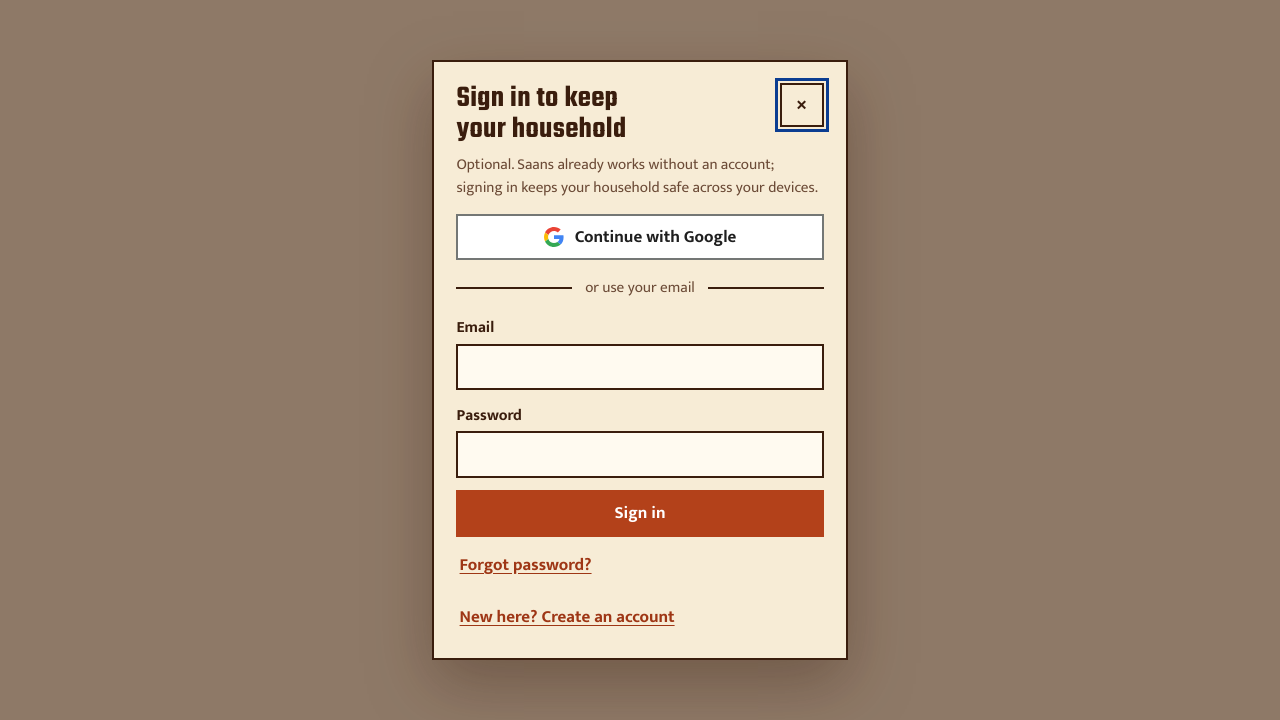
Test case: AuthDialog › sends a password reset without revealing whether the account exists
The width and height of the screenshot is (1280, 720).
Click the button "Forgot password?" at (526, 565), box [456,543,595,587]
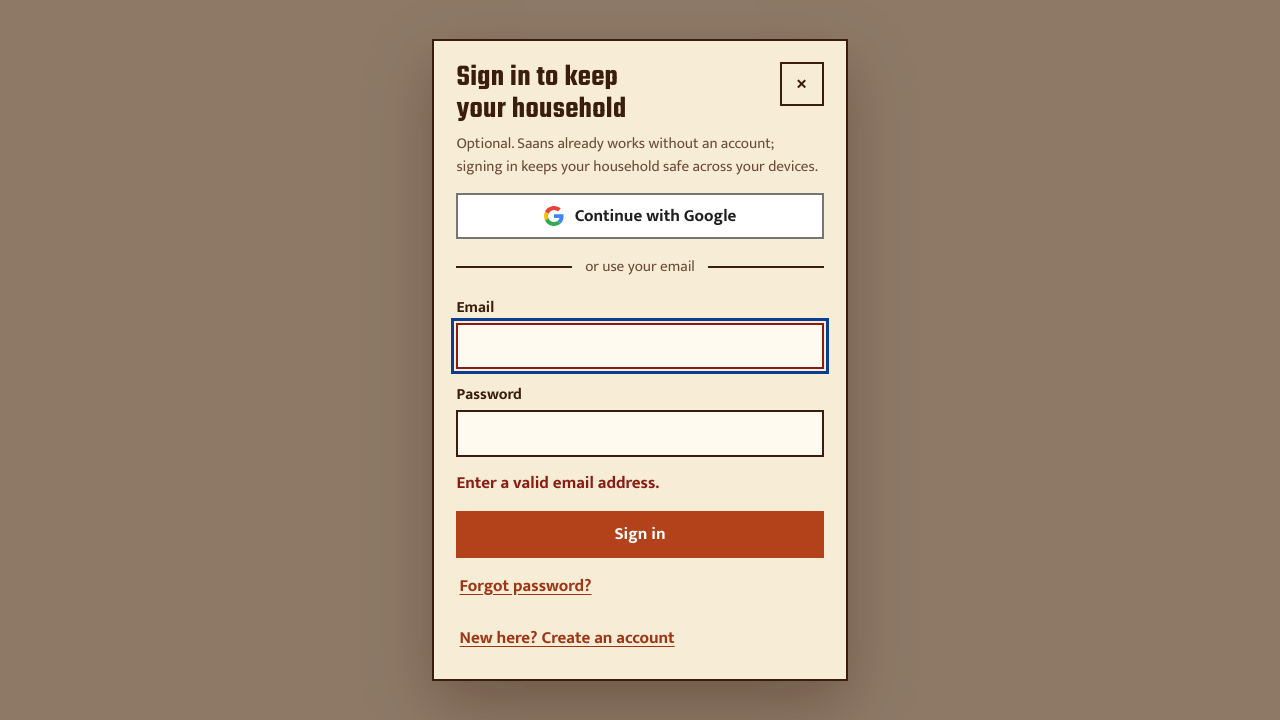
Result: the message reads "Enter a valid email address." at [456,468,659,496]
Type "asha@example.com" into the field labelled "Email" at (640, 346), box [456,323,824,369]
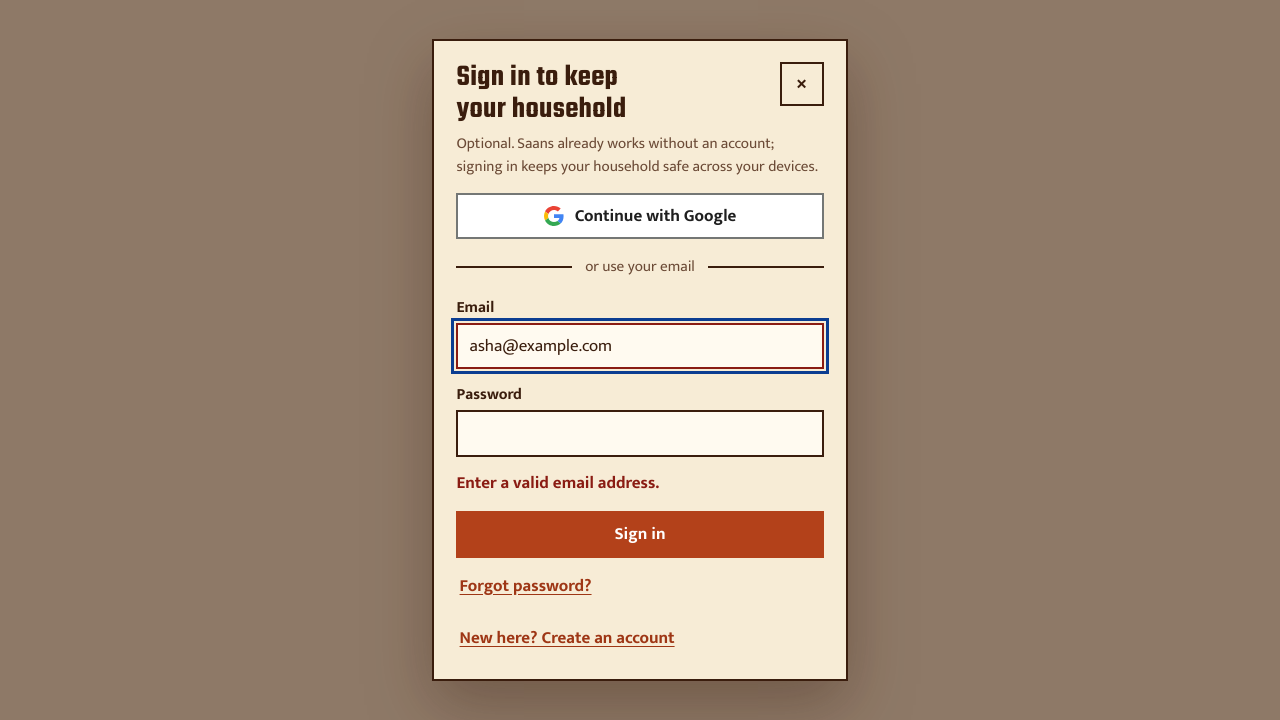
Click the button "Forgot password?" at (526, 586), box [456,564,595,608]
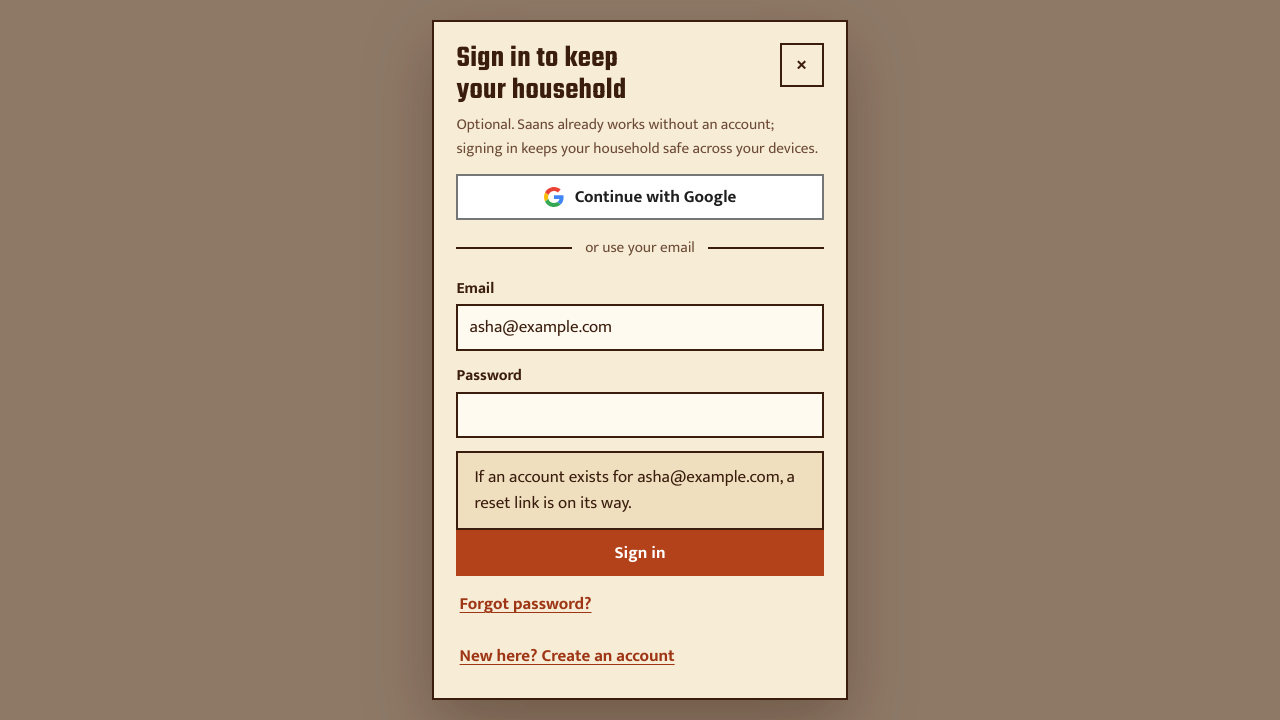
Result: the message shows "If an account exists for asha@example.com" at [474,463,795,517]
